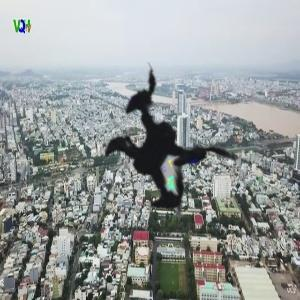drone: (13, 17, 285, 289)
